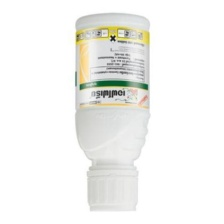insecticide: (72, 10, 153, 216)
